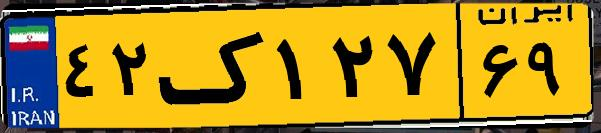1: (270, 28, 330, 110)
2: (330, 28, 385, 110), (110, 28, 158, 98)
4: (57, 26, 110, 100)
6: (475, 38, 525, 113)
7: (385, 28, 445, 110)
9: (525, 38, 570, 115)
ک: (158, 12, 270, 120)
